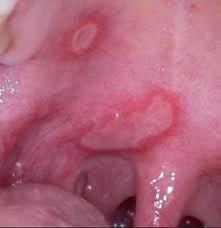Ulcer: (74, 91, 184, 159), (63, 19, 115, 57)
